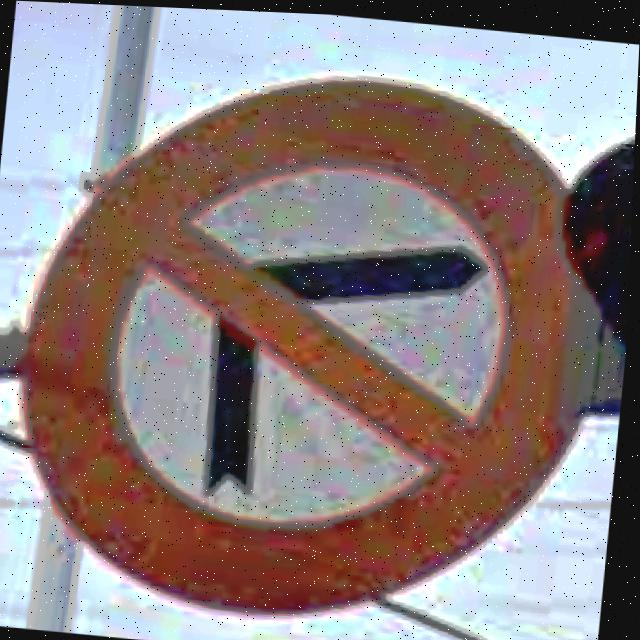noturnright: (23, 74, 585, 618)
